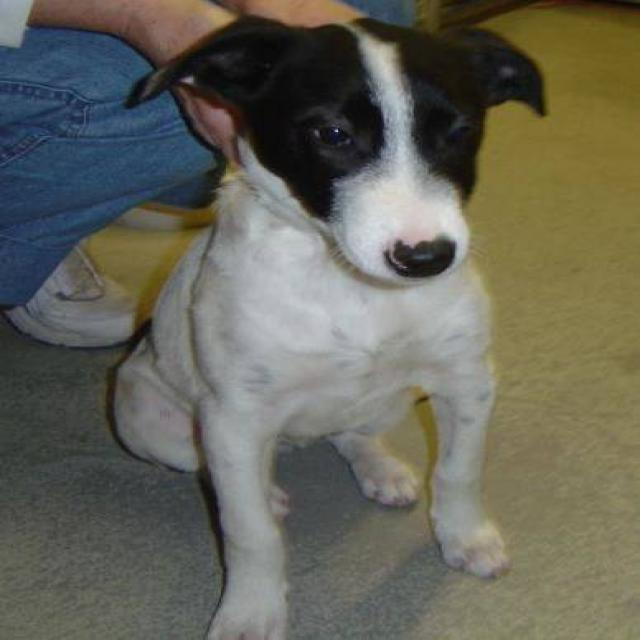dog: (104, 5, 548, 639)
